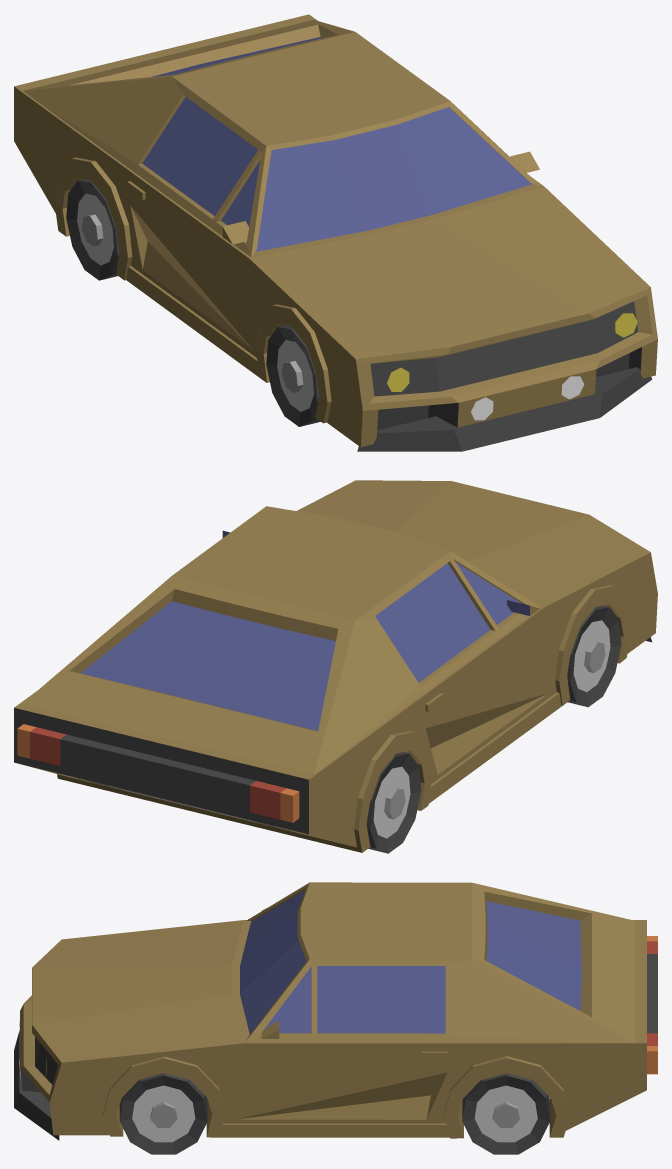
Rendered from transport_jeep_008.glb.
3 renders of one model, top to bottom at view 1: azimuth 30°, elevation 25°; view 2: azimuth 150°, elevation 25°; view 3: azimuth 270°, elevation 25°, orthographic. The views are drawn at different scales.
Visible parts, largest first — view 1: transport_jeep_008; view 2: transport_jeep_008; view 3: transport_jeep_008.
Part boxes in pixels (<box>): transport_jeep_008: <box>14,14,657,451</box>; transport_jeep_008: <box>14,480,657,853</box>; transport_jeep_008: <box>14,882,657,1154</box>.
Bounding box in the file's own units: 1.8 × 1.11 × 3.82.
Materials: 1 (1 with a texture image).
